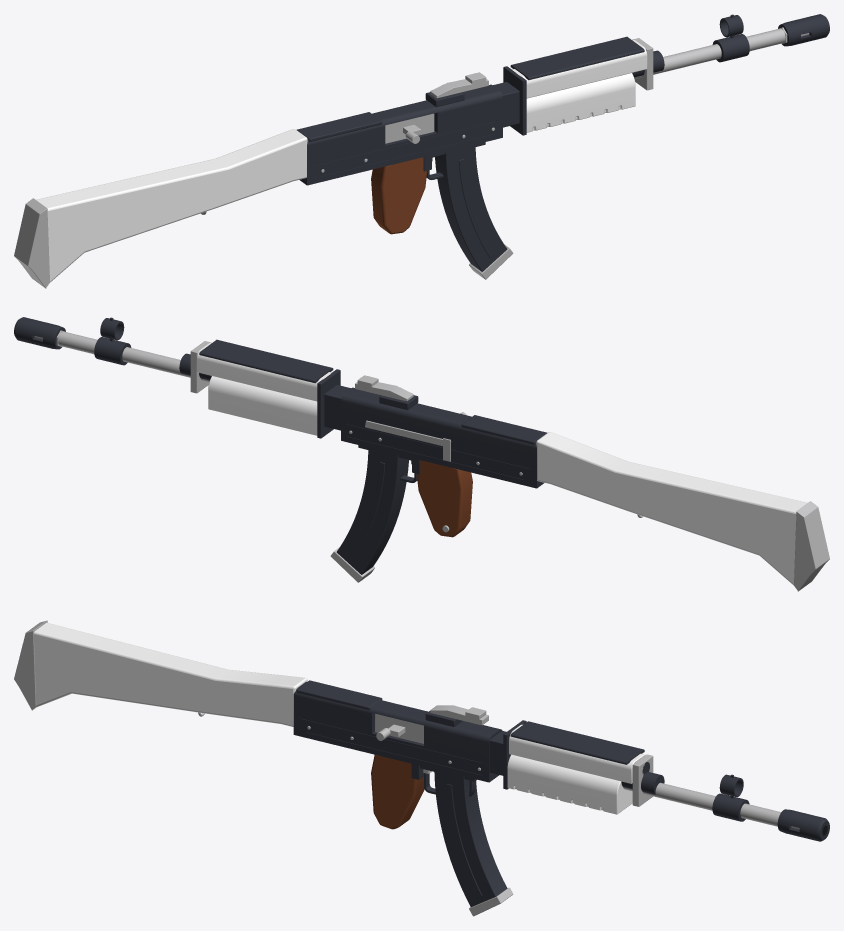
3 views of the same model, one above another, from view 1: azimuth 30°, elevation 25°; view 2: azimuth 150°, elevation 25°; view 3: azimuth 330°, elevation 25° (orthographic).
Parts seen in each view (by area): view 1: Stock.001, Receiver.001, Magazine.002, HandguardLower, PistolGrip, HandguardHeatShield, HandguardUpper, Buttplate.001, Barrel.002, DustCover, MuzzleBrake, BoltCarrier (+5 smaller); view 2: Stock.001, Receiver.001, Magazine.002, HandguardLower, PistolGrip, HandguardHeatShield, HandguardUpper, Buttplate.001, Barrel.002, DustCover, MuzzleBrake, FrontFerrule (+5 smaller); view 3: Stock.001, Receiver.001, Magazine.002, HandguardLower, PistolGrip, HandguardUpper, HandguardHeatShield, Barrel.002, Buttplate.001, DustCover, MuzzleBrake, BoltCarrier (+4 smaller).
Boxes of the visible parts, x1,y1,x2,y2 form: Stock.001: (36,129,307,282); Receiver.001: (299,84,502,185); Magazine.002: (435,144,507,271); HandguardLower: (526,73,635,132); PistolGrip: (371,157,427,234); HandguardHeatShield: (510,36,644,80); HandguardUpper: (512,39,647,98); Buttplate.001: (14,198,49,288); Barrel.002: (634,28,809,79); DustCover: (297,112,382,141); MuzzleBrake: (778,14,829,46); BoltCarrier: (385,113,434,143); Stock.001: (536,432,807,585); Receiver.001: (341,387,544,488); Magazine.002: (336,447,408,574); HandguardLower: (208,376,317,435); PistolGrip: (416,460,472,537); HandguardHeatShield: (199,339,333,383); HandguardUpper: (196,342,331,401); Buttplate.001: (794,501,829,591); Barrel.002: (34,331,209,382); DustCover: (461,415,546,444); MuzzleBrake: (14,317,65,349); FrontFerrule: (317,369,340,438); Stock.001: (34,622,307,726); Receiver.001: (293,682,502,782); Magazine.002: (434,769,507,906); HandguardLower: (507,754,632,814); PistolGrip: (371,755,424,829); HandguardUpper: (509,724,645,783); HandguardHeatShield: (510,721,644,764); Barrel.002: (623,782,799,829); Buttplate.001: (14,620,47,710); DustCover: (296,680,382,710); MuzzleBrake: (777,809,829,841); BoltCarrier: (375,713,423,743).
Size of the model in its own units: 1.23 by 0.2926 by 0.074.
